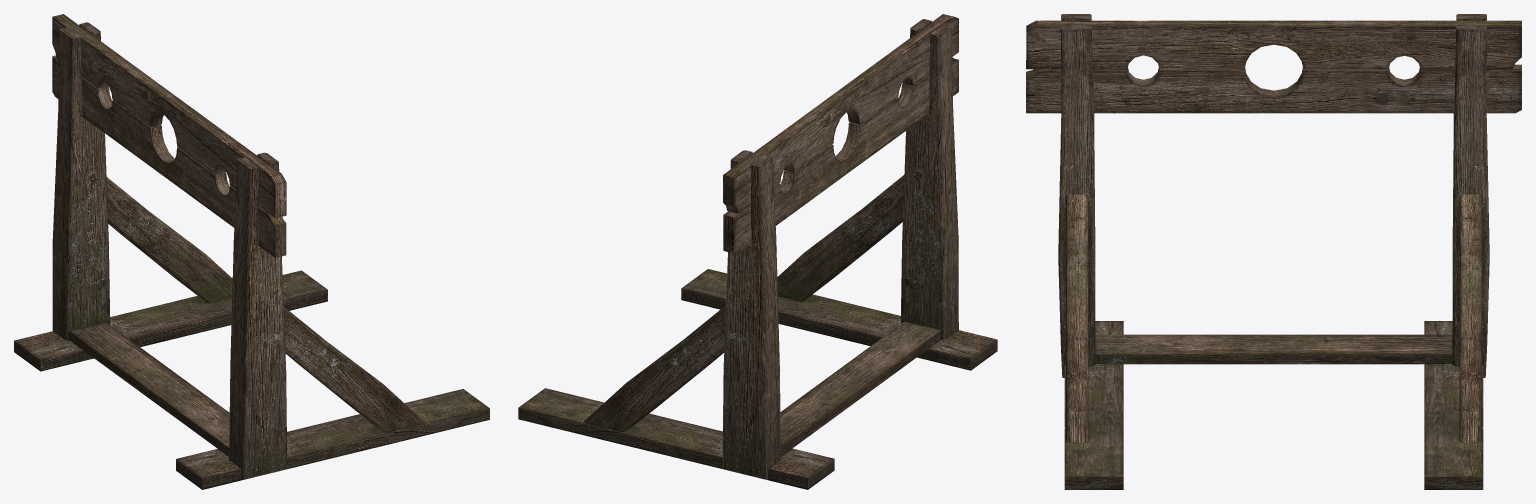
File: CA_Pillory.fbx
3 renders of one model, left to right at view 1: azimuth 30°, elevation 25°; view 2: azimuth 150°, elevation 25°; view 3: azimuth 270°, elevation 25°, orthographic. The views are drawn at different scales.
Visible parts, largest first — view 1: CA_Pillory; view 2: CA_Pillory; view 3: CA_Pillory.
Boxes of the visible parts, box(x1,y1,x2,y2) form: CA_Pillory: box(14, 14, 489, 489); CA_Pillory: box(518, 14, 997, 489); CA_Pillory: box(1026, 14, 1521, 489).
Size of the model in its own units: 130 by 134 by 174.
